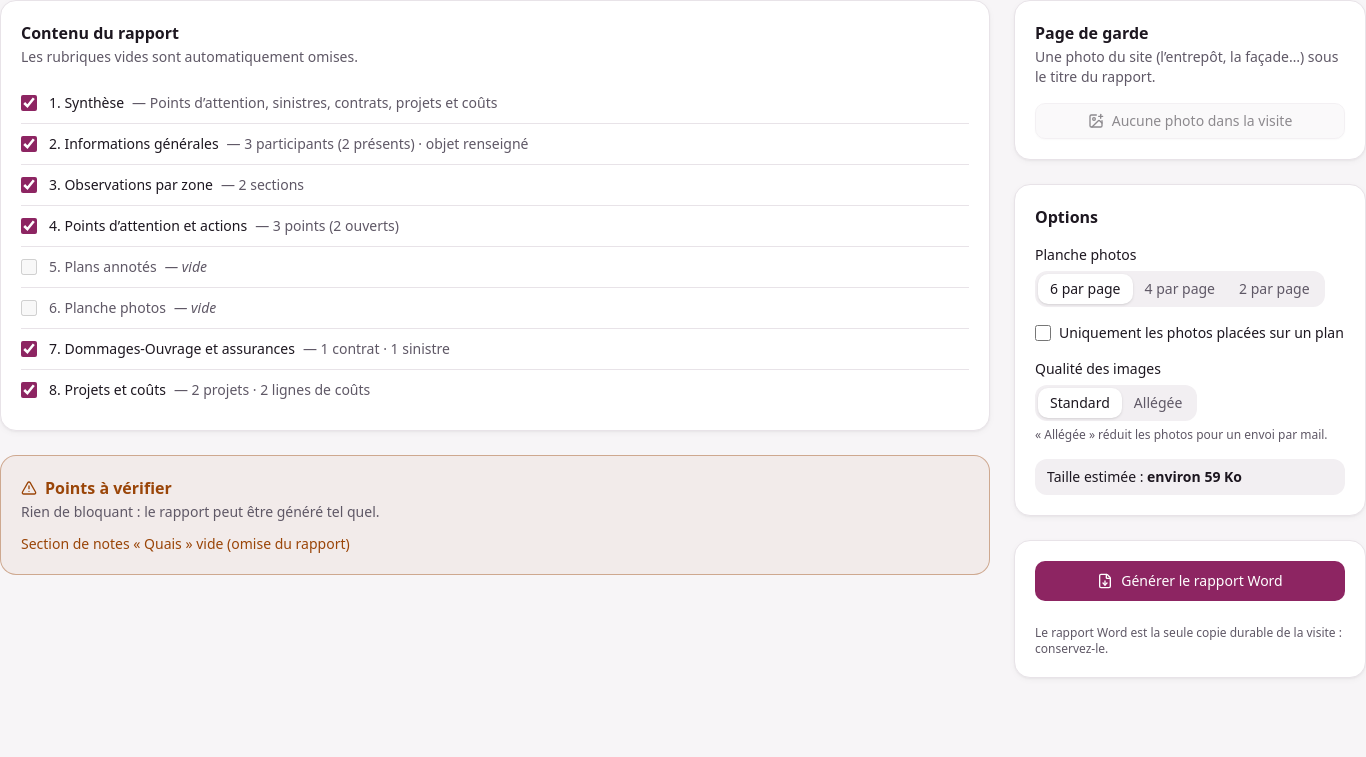
it: ReportTab › shows the error with "Réessayer", which runs the generation again
Click the button "Générer le rapport Word" at coordinates (1190, 581), box top-left (1035, 561), bottom-right (1345, 601)
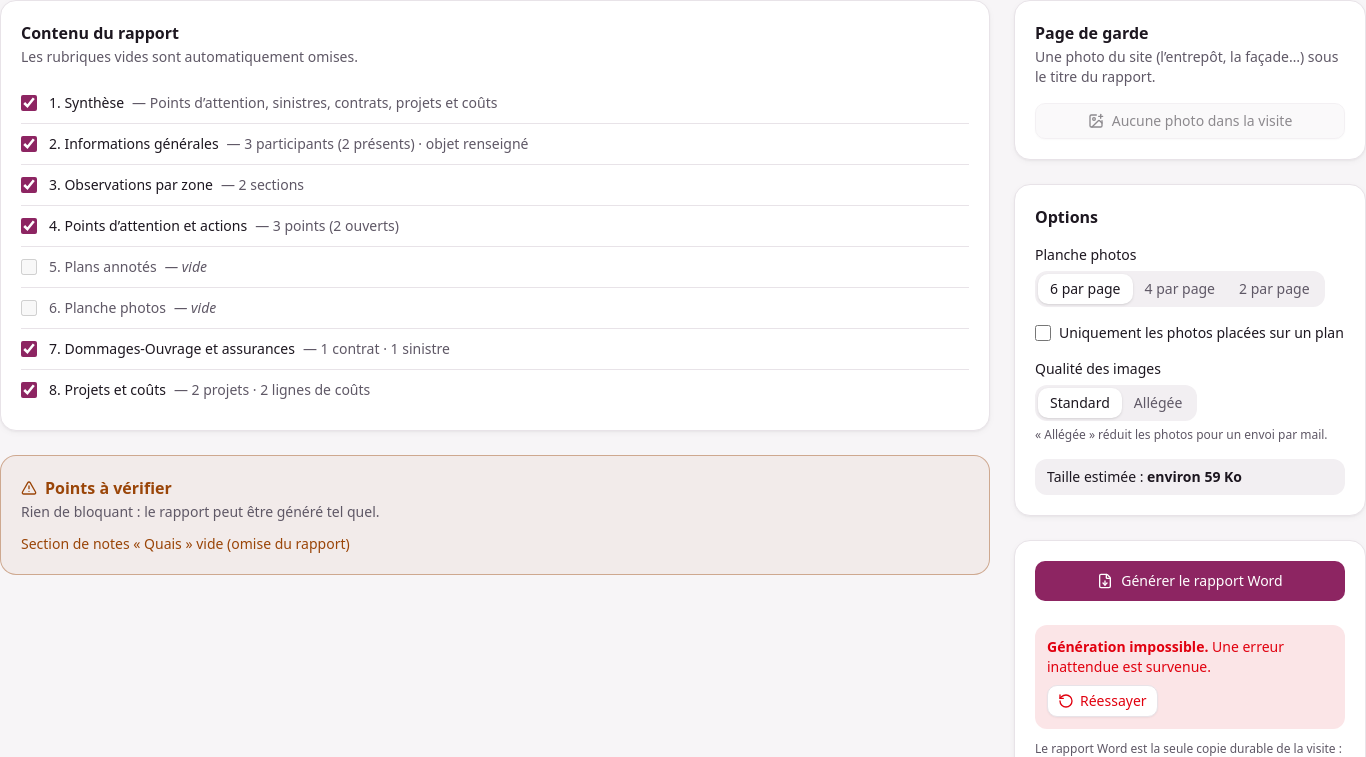
Result: the message shows "Génération impossible." at top-left (1047, 637), bottom-right (1208, 656)
Click the button "Réessayer" at coordinates (1102, 701), box top-left (1047, 685), bottom-right (1158, 717)
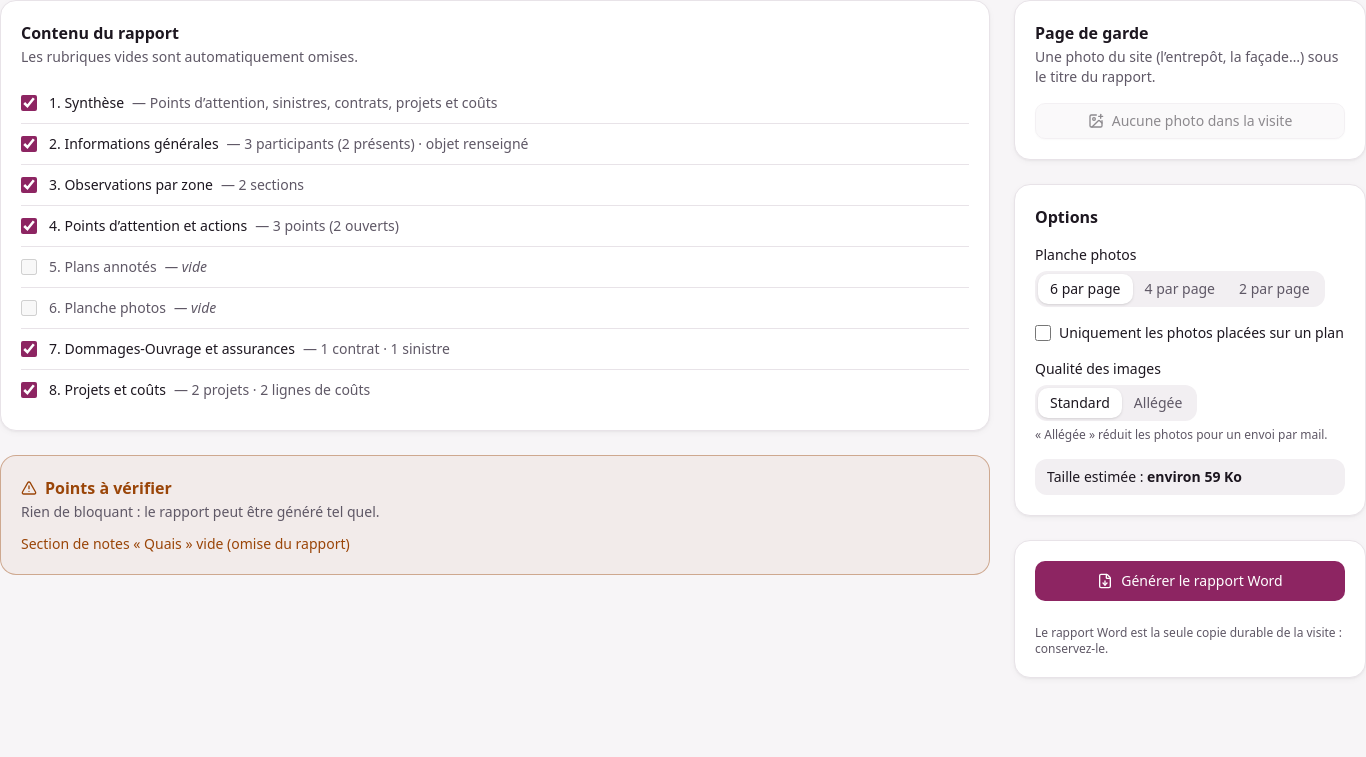
Result: the message "Génération impossible. Une erreur inattendue est survenue. Réessayer" is gone
